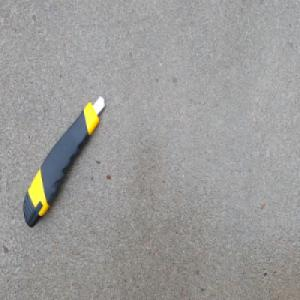Cutter: (24, 89, 106, 225)
